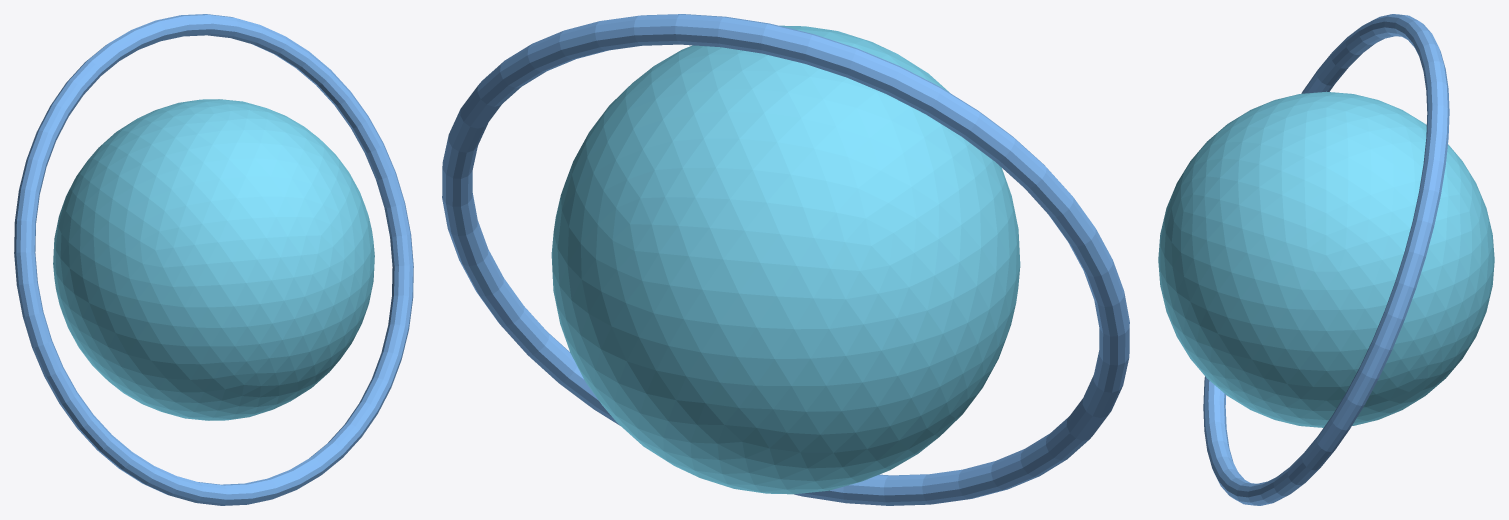
File: scifi_orb.glb
3 renders of one model, left to right at view 1: azimuth 30°, elevation 25°; view 2: azimuth 150°, elevation 25°; view 3: azimuth 270°, elevation 25°, orthographic. The views are drawn at different scales.
Visible parts, largest first — view 1: SciFiOrb, OrbRing; view 2: SciFiOrb, OrbRing; view 3: SciFiOrb, OrbRing.
Boxes of the visible parts, left/top/right/bottom form: SciFiOrb: left=53, top=99, right=374, bottom=420; OrbRing: left=14, top=14, right=413, bottom=505; SciFiOrb: left=551, top=25, right=1020, bottom=494; OrbRing: left=442, top=14, right=1129, bottom=505; SciFiOrb: left=1158, top=91, right=1494, bottom=427; OrbRing: left=1203, top=14, right=1449, bottom=505.
Bounding box in the file's own units: 4.53 × 4.19 × 3.
